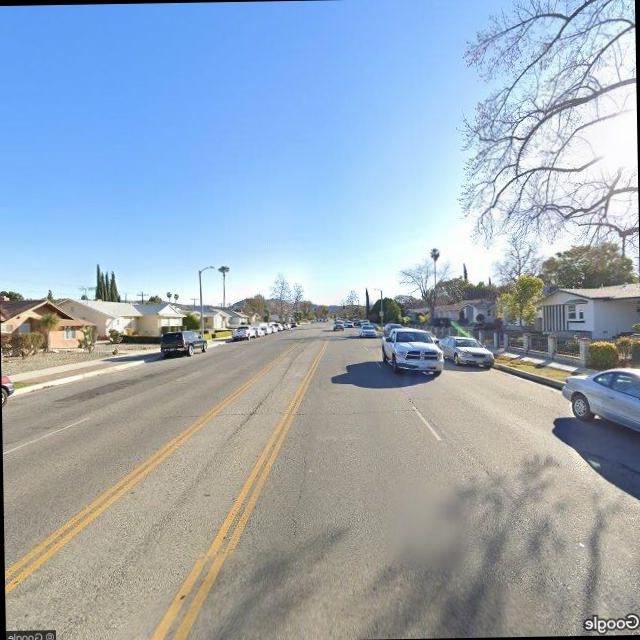crack: (224, 348, 306, 440), (122, 399, 422, 422), (285, 432, 315, 536)
